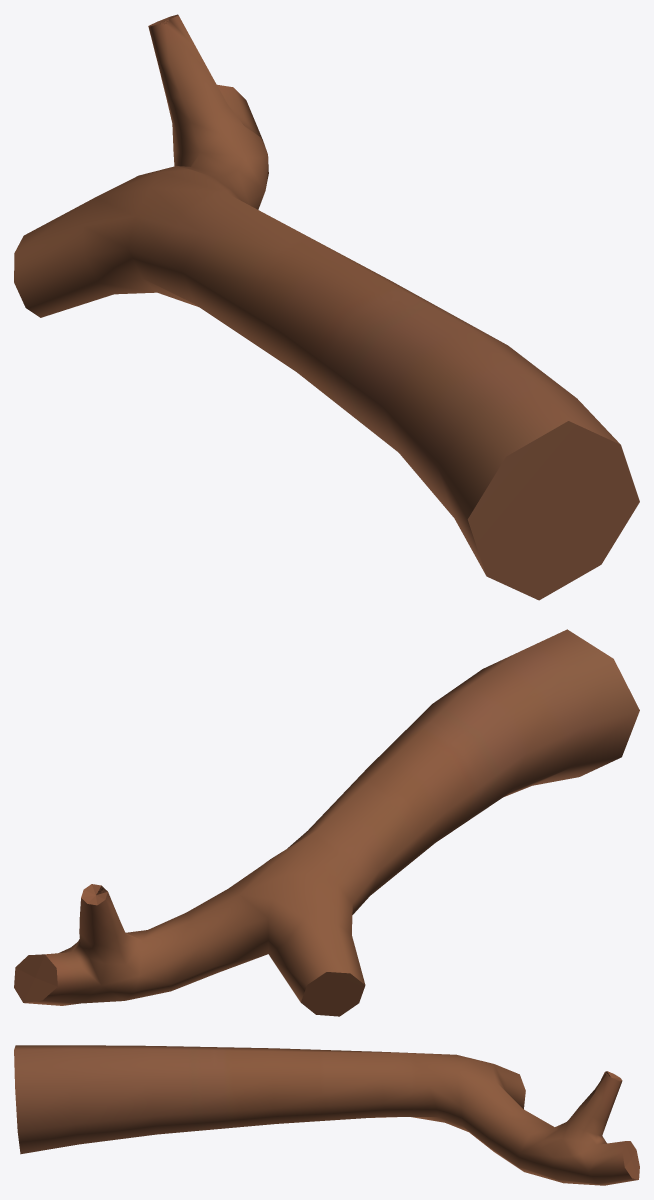
File: SM_Exterior_Tronco_02.fbx
The picture shows the model from 3 angles, top to bottom: view 1: azimuth 30°, elevation 25°; view 2: azimuth 150°, elevation 25°; view 3: azimuth 270°, elevation 25°; orthographic projection. The views are drawn at different scales.
Visible parts, largest first — view 1: SM_Exterior_Tronco2; view 2: SM_Exterior_Tronco2; view 3: SM_Exterior_Tronco2.
Boxes of the visible parts, bbox=[...] form: SM_Exterior_Tronco2: bbox=[14, 14, 639, 600]; SM_Exterior_Tronco2: bbox=[14, 629, 639, 1016]; SM_Exterior_Tronco2: bbox=[14, 1045, 639, 1185].
Size of the model in its own units: 155 by 83.23 by 416.
